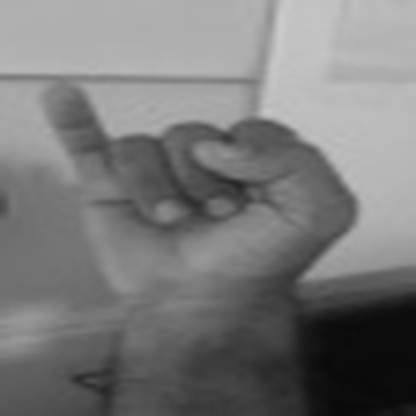i: (34, 76, 375, 297)
